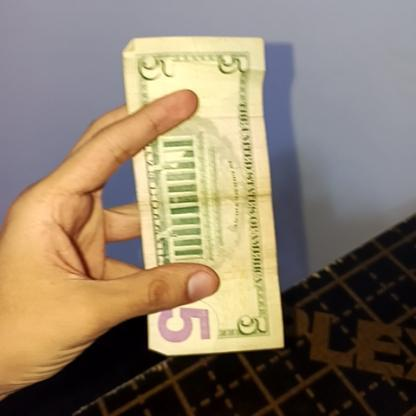dollar_back: (117, 30, 282, 362)
